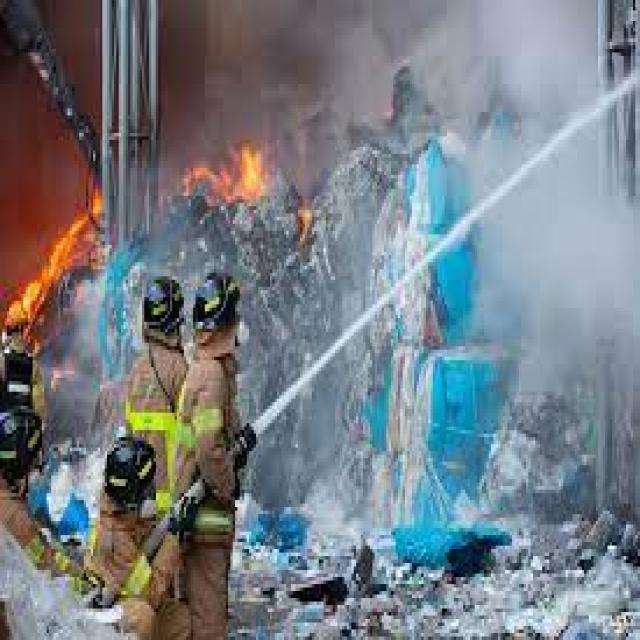Fire: (2, 207, 82, 353), (180, 138, 272, 206), (296, 203, 316, 246)
Smoke: (194, 0, 590, 142), (266, 125, 326, 200)
